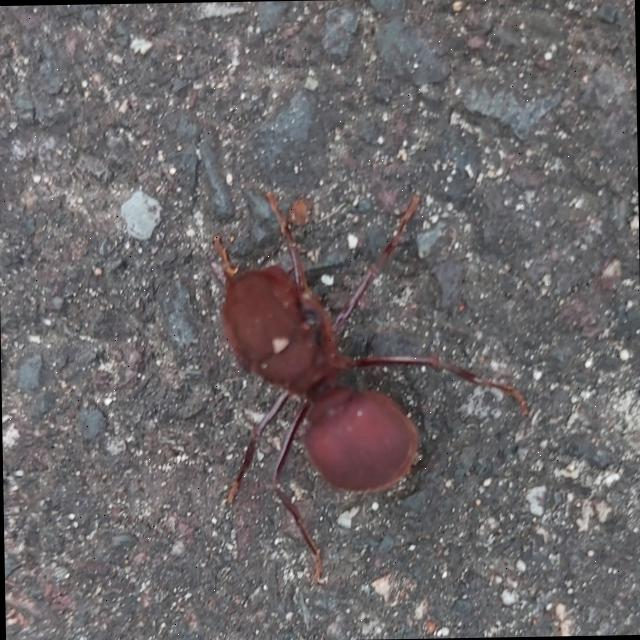Dead-Female-Dealate: (212, 185, 532, 582)
